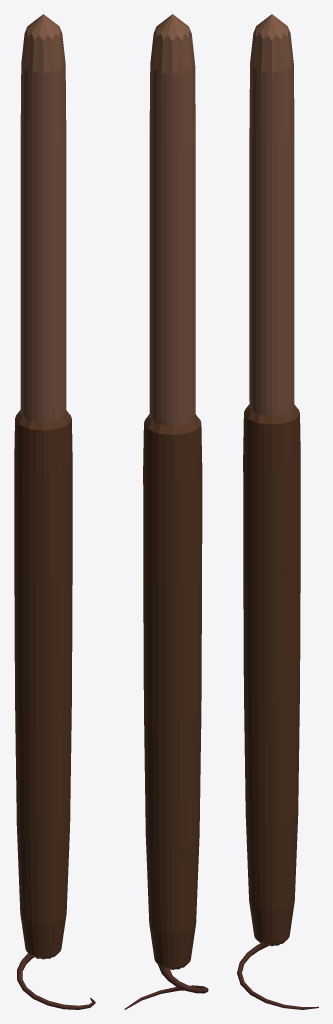
Rendered from Wand 19.glb.
3 renders of one model, left to right at view 1: azimuth 30°, elevation 25°; view 2: azimuth 150°, elevation 25°; view 3: azimuth 330°, elevation 25°, orthographic. The views are drawn at different scales.
Visible parts, largest first — view 1: GeneratedWand; view 2: GeneratedWand; view 3: GeneratedWand.
Part boxes in pixels (x1,y1,x2,y2): GeneratedWand: (14,14,95,1009); GeneratedWand: (124,14,208,1009); GeneratedWand: (237,14,318,1009).
Size of the model in its own units: 0.0402 by 0.5137 by 0.0338.
